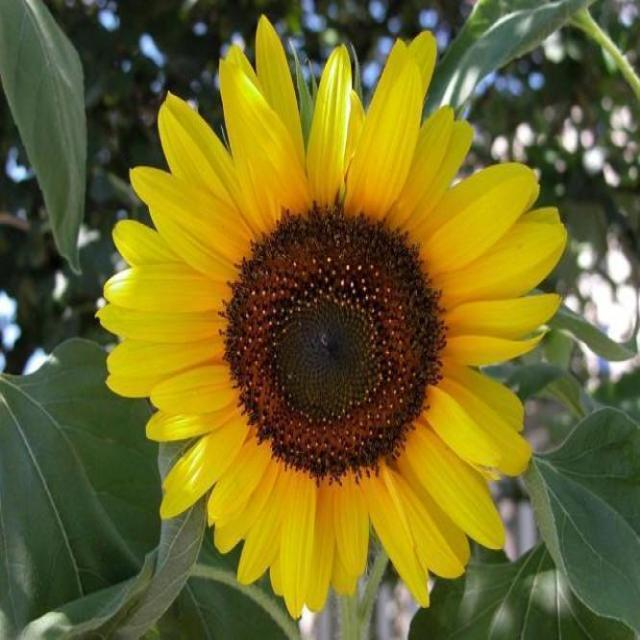sunflower: (85, 14, 580, 640)
